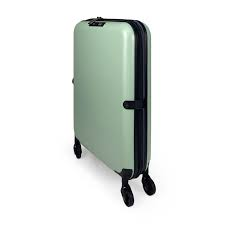suitcase: (71, 15, 157, 208)
